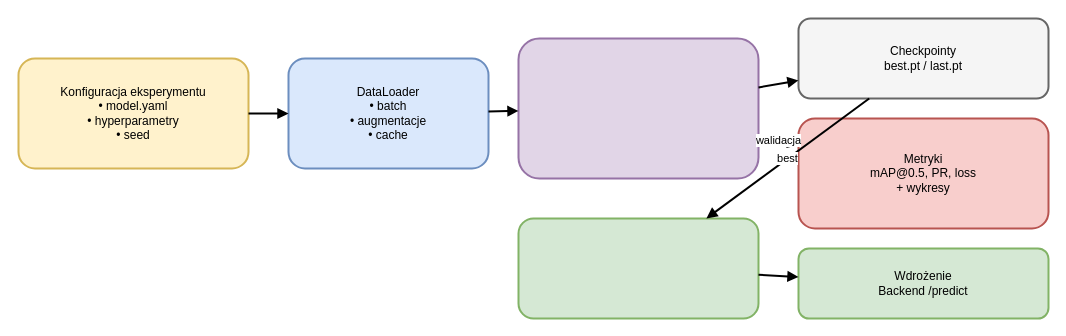
The diagram is 1066 pixels wide and 336 high, and some of its shapes have lost their labels. The shapes that lost their labels are listed below. From the top down, each one's centre as x and y in pixels, then its label:
pixel 638 108: Pętla uczenia forward → loss backward → update
pixel 638 268: Eksport PyTorch → ONNX/OpenVINO (opcjonalnie)
